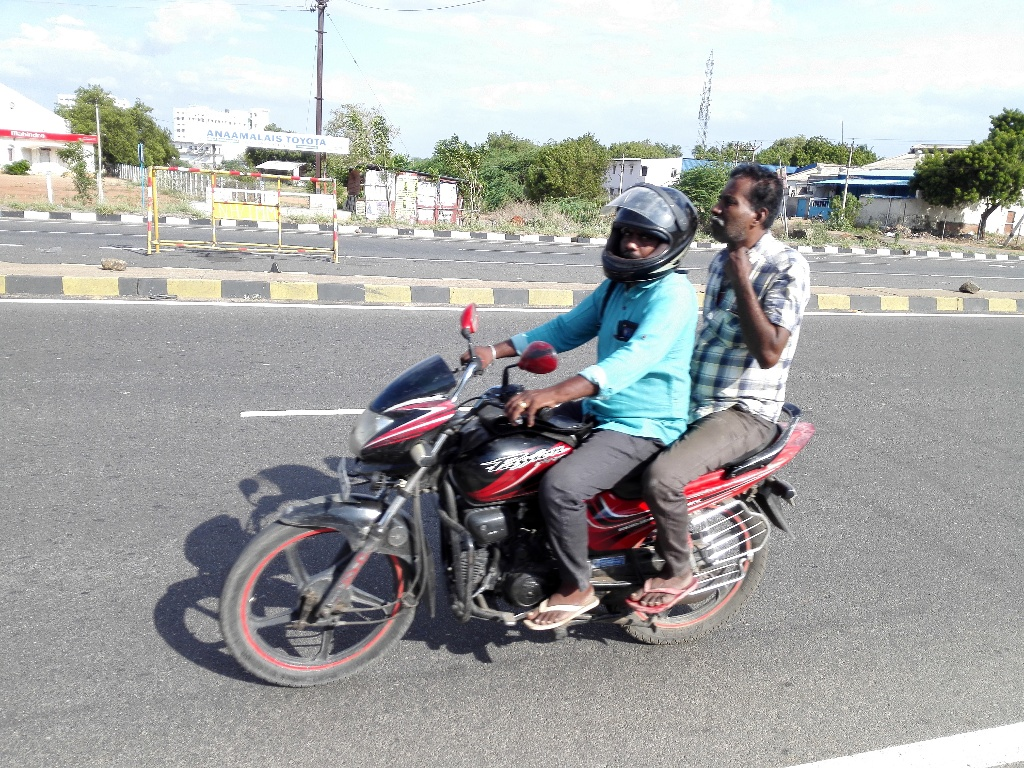biker: (200, 127, 855, 706)
helmet: (596, 167, 701, 293)
nohelmet: (702, 145, 792, 264)
